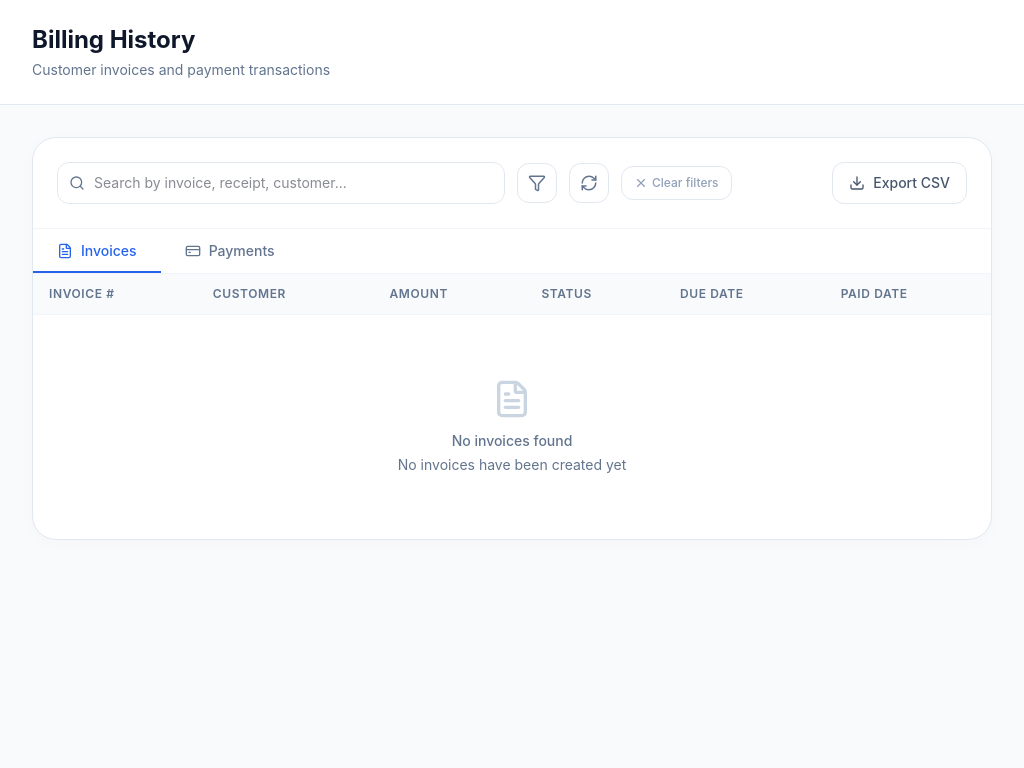
R. Customer billing history › clears search, status and dates together
The width and height of the screenshot is (1024, 768).
Expected: the button "Clear filters" is disabled, [621,166,732,200]
Type "INV-9" into the field named "Search billing history".
click(281, 183); type("INV-9")  # box [57,162,505,204]
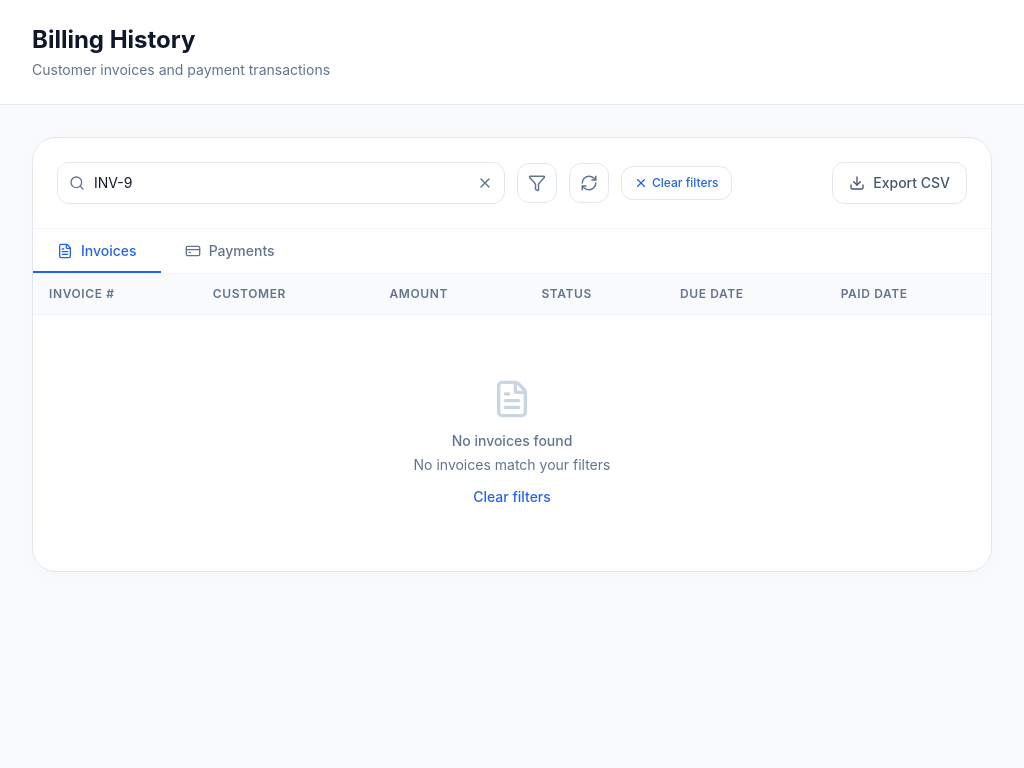
Click the button named "Toggle filters".
click(537, 183)  # box [517,163,557,203]
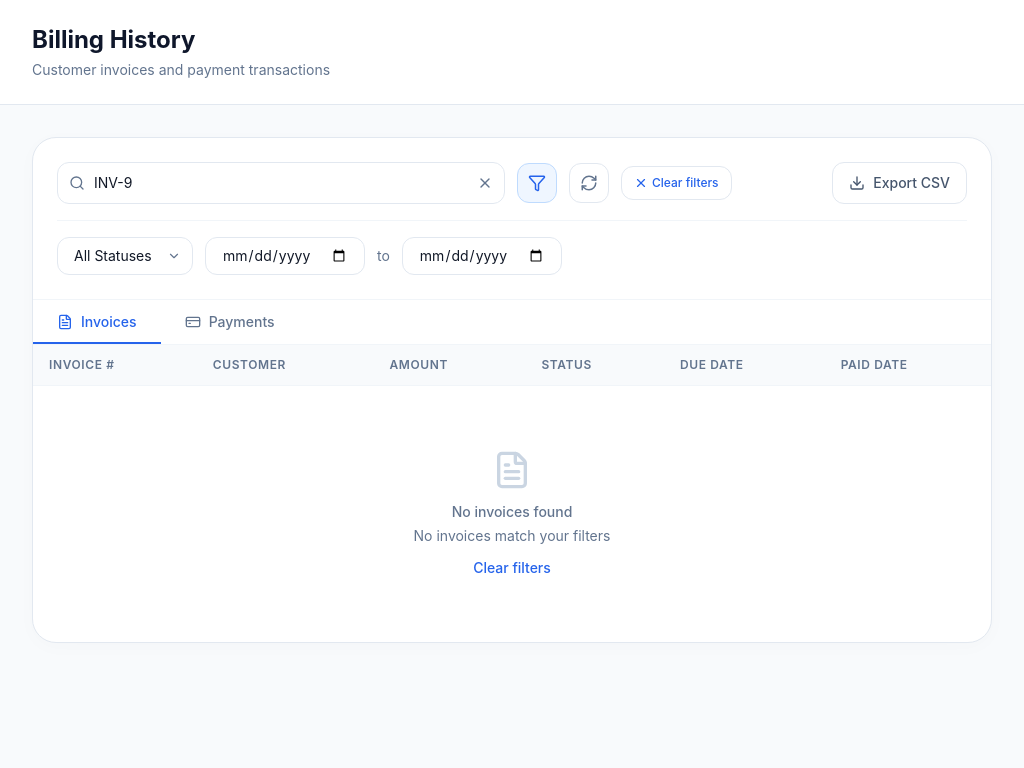
Select "Paid" in the dropdown named "Filter by status" at [125, 256], box [57,237,193,275]
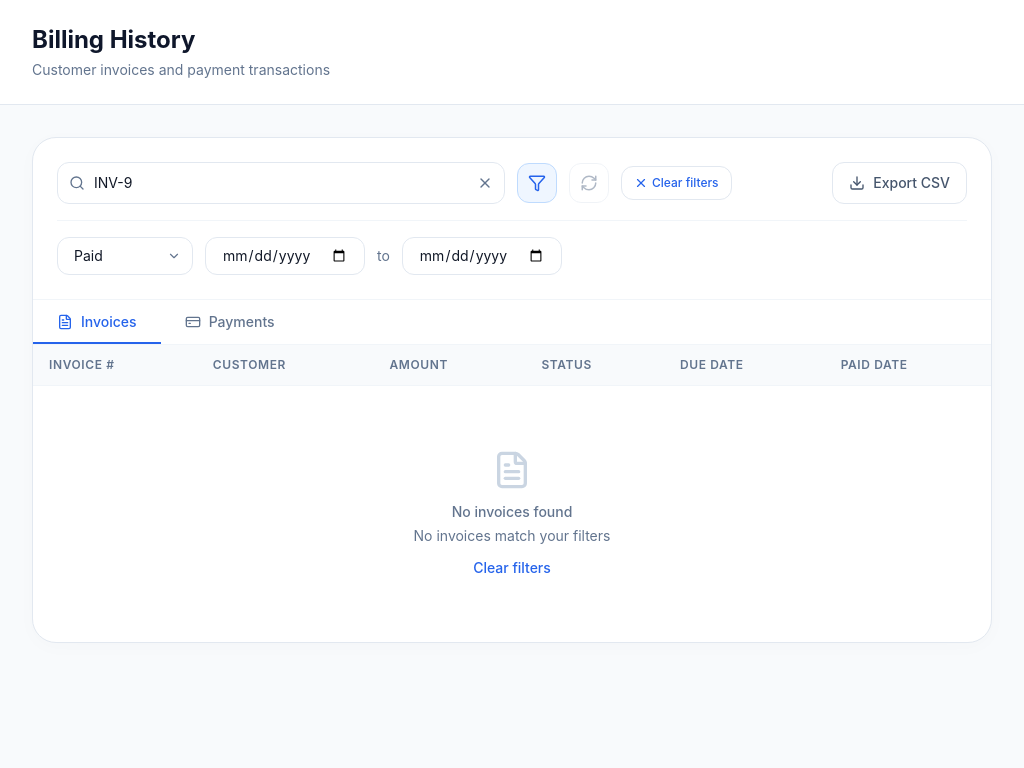
Type "2026-01-01" into the date field named "Filter from date".
click(285, 256); type("2026-01-01")  # box [205,237,365,275]
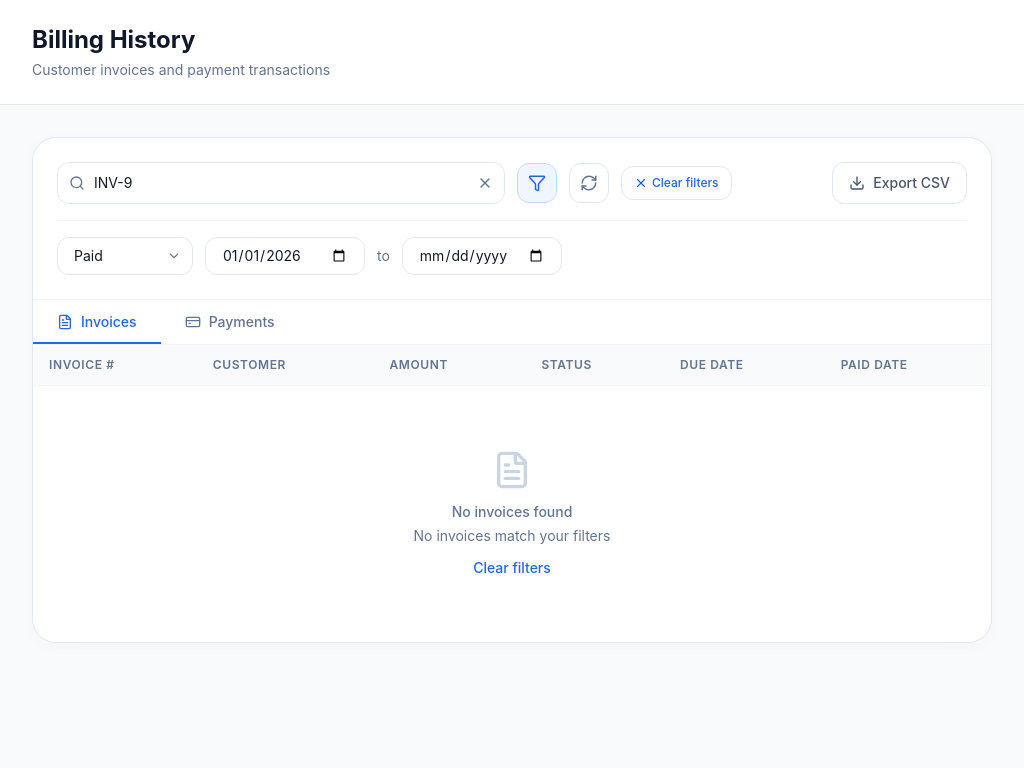
Expected: the text "No invoices match your filters" is shown, [414,526,610,546]
Click the 1st button "Clear filters".
click(676, 183)  # box [621,166,732,200]
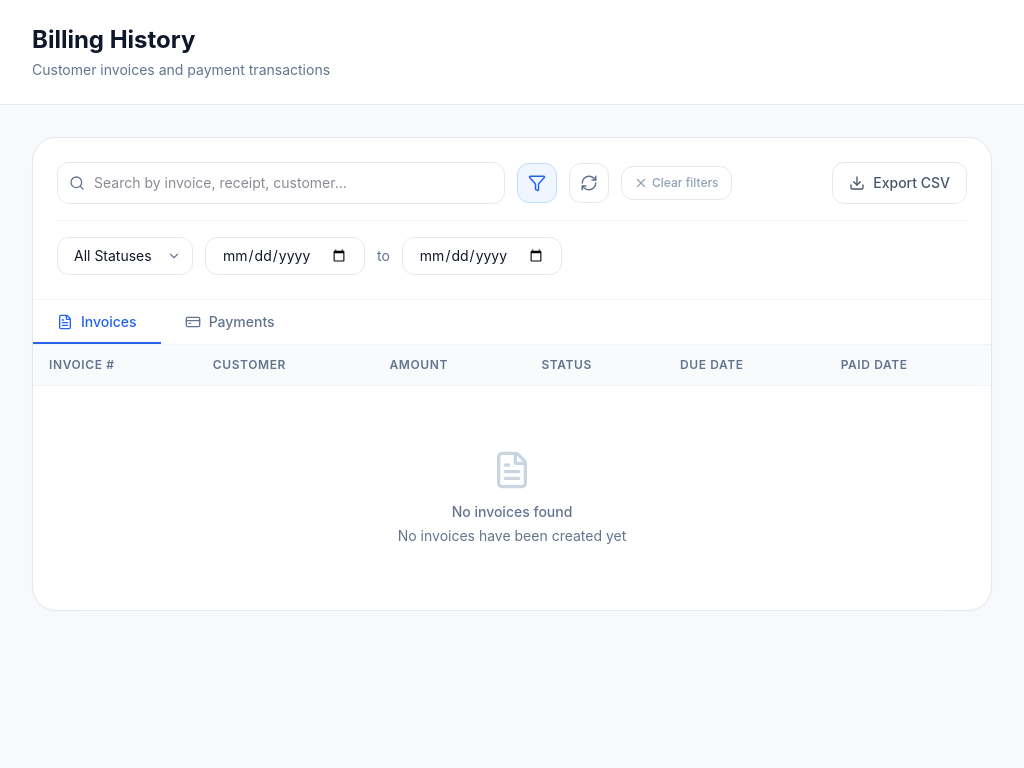
Expected: the field named "Search billing history" is empty, [57,162,505,204]
Expected: the text "No invoices have been created yet" is shown, [398,526,626,546]
Expected: the button "Clear filters" is disabled, [621,166,732,200]
